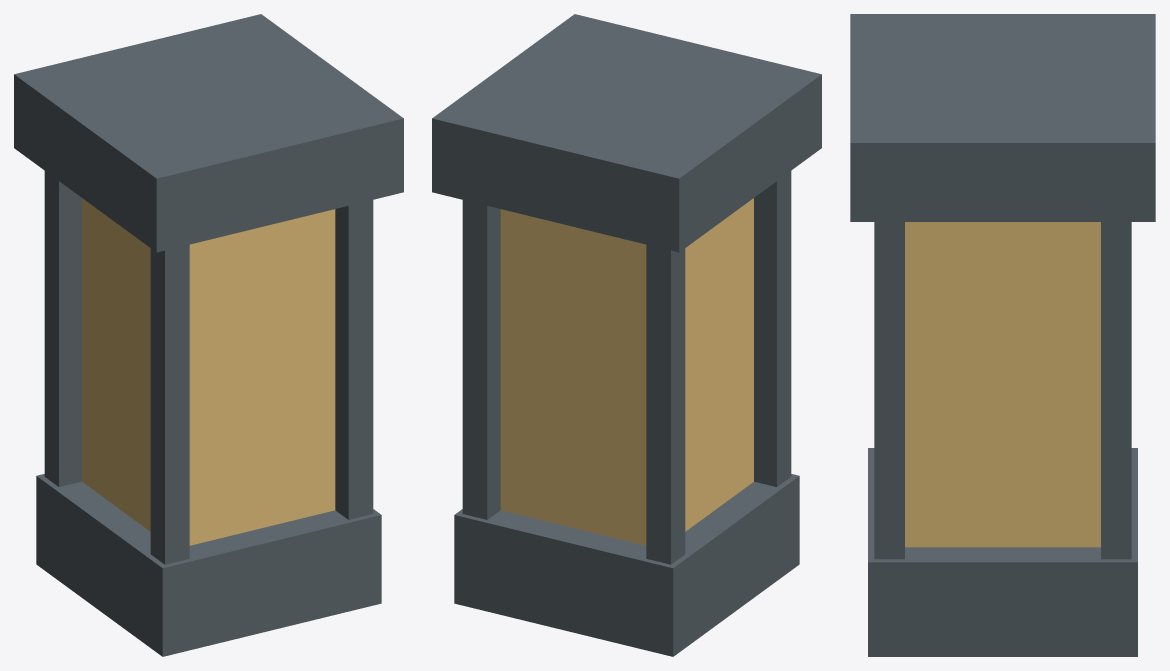
The model's file is lantern.glb.
3 views of the same model, side by side, from view 1: azimuth 30°, elevation 25°; view 2: azimuth 150°, elevation 25°; view 3: azimuth 270°, elevation 25° (orthographic). The views are drawn at different scales.
Parts seen in each view (by area): view 1: Lantern glow, Lantern roof, Lantern base, Lantern frame.001, Lantern frame.003, Lantern frame; view 2: Lantern glow, Lantern roof, Lantern base, Lantern frame, Lantern frame.002, Lantern frame.001; view 3: Lantern glow, Lantern roof, Lantern base, Lantern frame.002, Lantern frame.003.
Boxes of the visible parts, x1=… form: Lantern glow: x1=82, y1=198, x2=335, y2=545; Lantern roof: x1=14, y1=14, x2=403, y2=252; Lantern base: x1=36, y1=474, x2=381, y2=656; Lantern frame.001: x1=150, y1=244, x2=189, y2=564; Lantern frame.003: x1=335, y1=200, x2=373, y2=519; Lantern frame: x1=44, y1=171, x2=81, y2=486; Lantern glow: x1=500, y1=198, x2=753, y2=545; Lantern roof: x1=432, y1=14, x2=821, y2=252; Lantern base: x1=454, y1=474, x2=799, y2=656; Lantern frame: x1=646, y1=244, x2=685, y2=564; Lantern frame.002: x1=462, y1=200, x2=500, y2=519; Lantern frame.001: x1=754, y1=171, x2=791, y2=486; Lantern glow: x1=905, y1=222, x2=1100, y2=547; Lantern roof: x1=850, y1=14, x2=1155, y2=221; Lantern base: x1=868, y1=448, x2=1137, y2=656; Lantern frame.002: x1=1101, y1=222, x2=1131, y2=559; Lantern frame.003: x1=874, y1=222, x2=904, y2=559.
Bounding box in the file's own units: 0.35 × 0.66 × 0.35.
